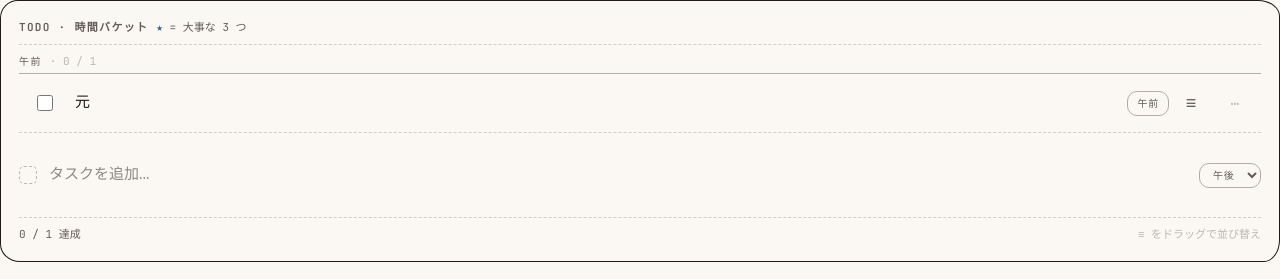
Test case: TodoCard › Esc で編集破棄 → updateTodo は呼ばれず元テキストが残る
Click the button named "元 を編集" at (83, 102), box [75,92,1119,114]
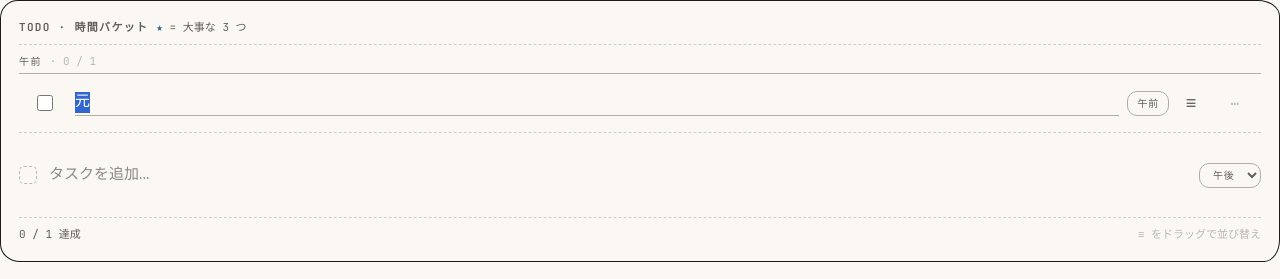
Type "捨てる" into the field named "タスク本文を編集" at (597, 103), box [75,90,1119,116]
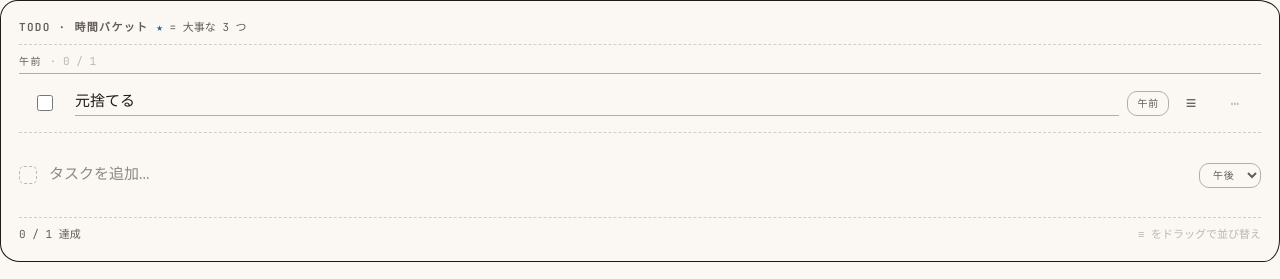
Press Escape
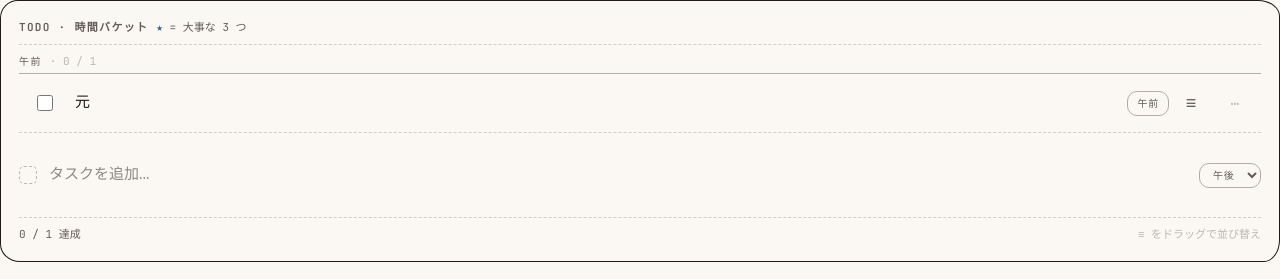
Expected: the button named "元 を編集" is shown, [75,92,1119,114]
